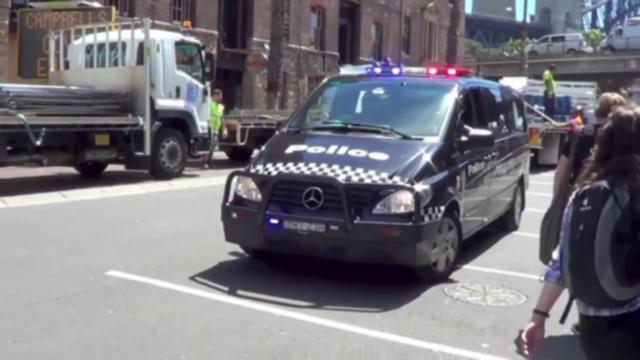police: (223, 61, 535, 283)
